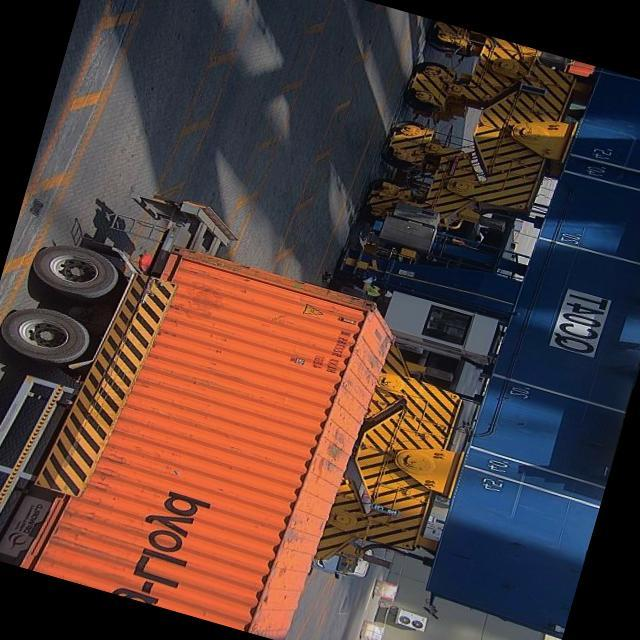rust: (168, 239, 390, 324)
